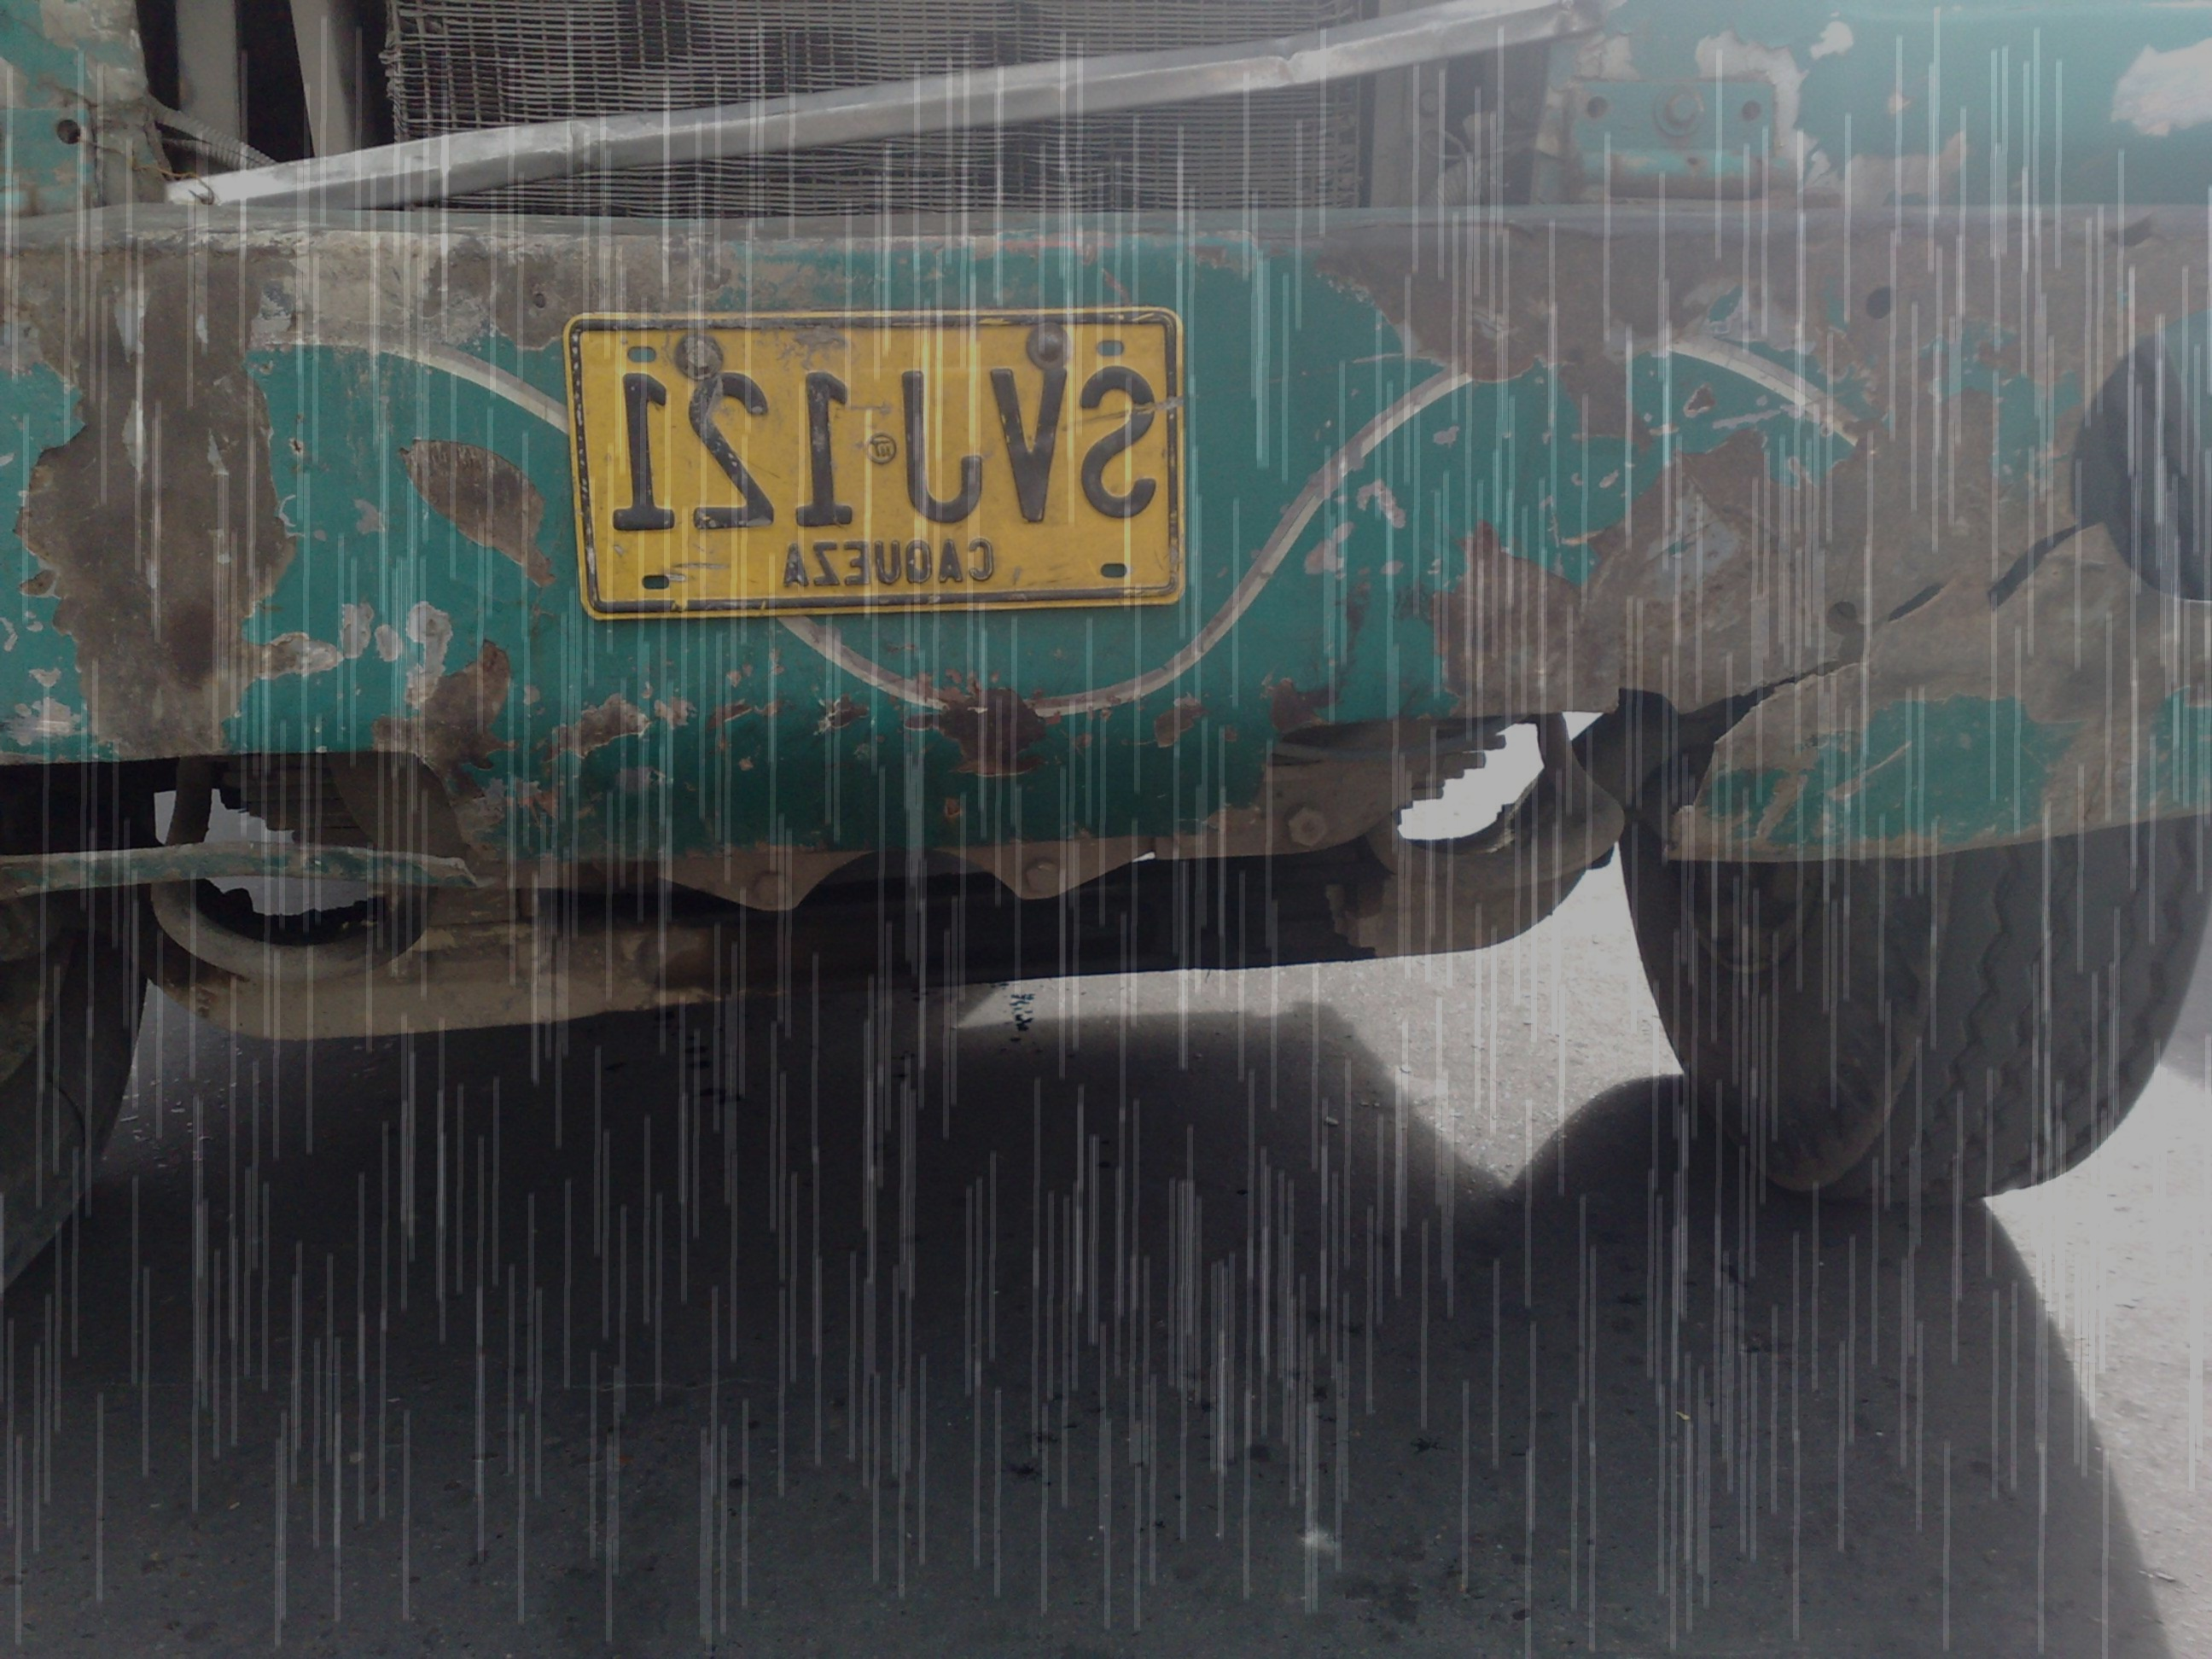placas: (556, 286, 1198, 637)
